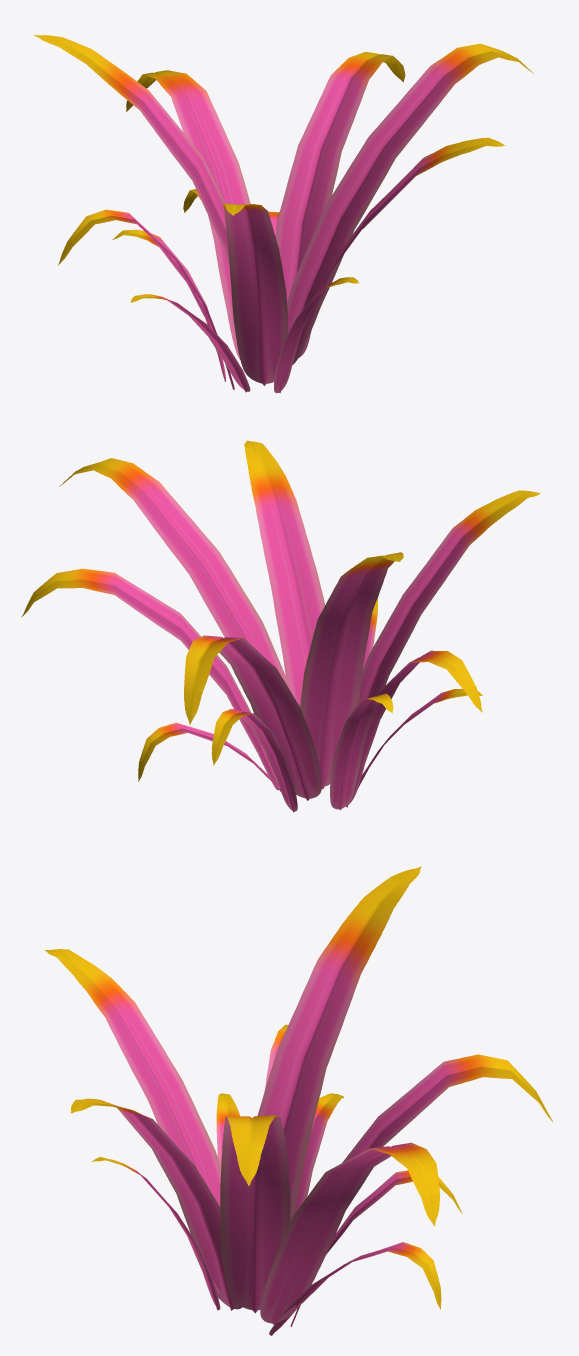
The model's file is Grass_Pink.fbx.
3 renders of one model, top to bottom at view 1: azimuth 30°, elevation 25°; view 2: azimuth 150°, elevation 25°; view 3: azimuth 270°, elevation 25°, orthographic. The views are drawn at different scales.
Parts seen in each view (by area): view 1: Plane.097; view 2: Plane.097; view 3: Plane.097.
Part boxes in pixels (bbox=[...]): Plane.097: bbox=[34, 35, 533, 393]; Plane.097: bbox=[21, 440, 540, 812]; Plane.097: bbox=[45, 866, 552, 1335].
Size of the model in its own units: 68.72 by 48.52 by 63.2.
Materials: 1 (1 with a texture image).
